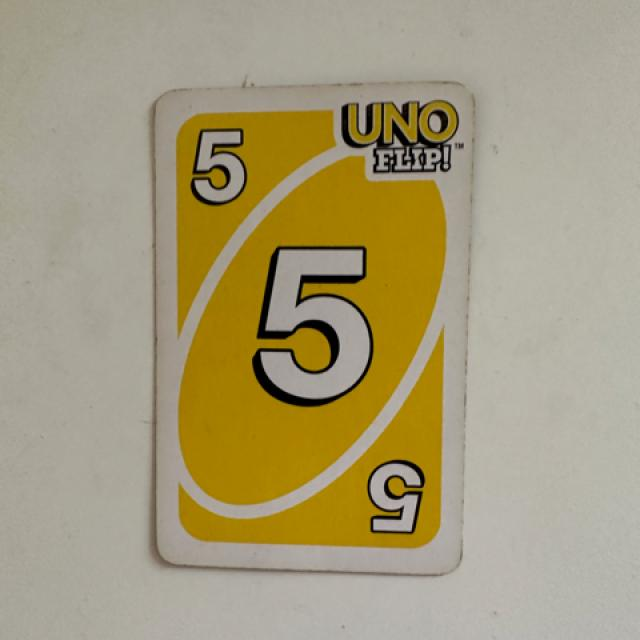lyellow-5: (170, 108, 274, 232)
